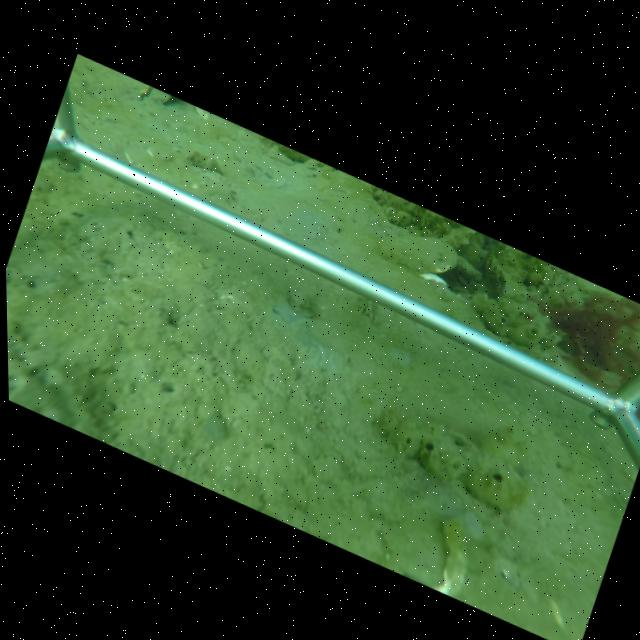Oyster-Indeterminate: (373, 237, 460, 275)
